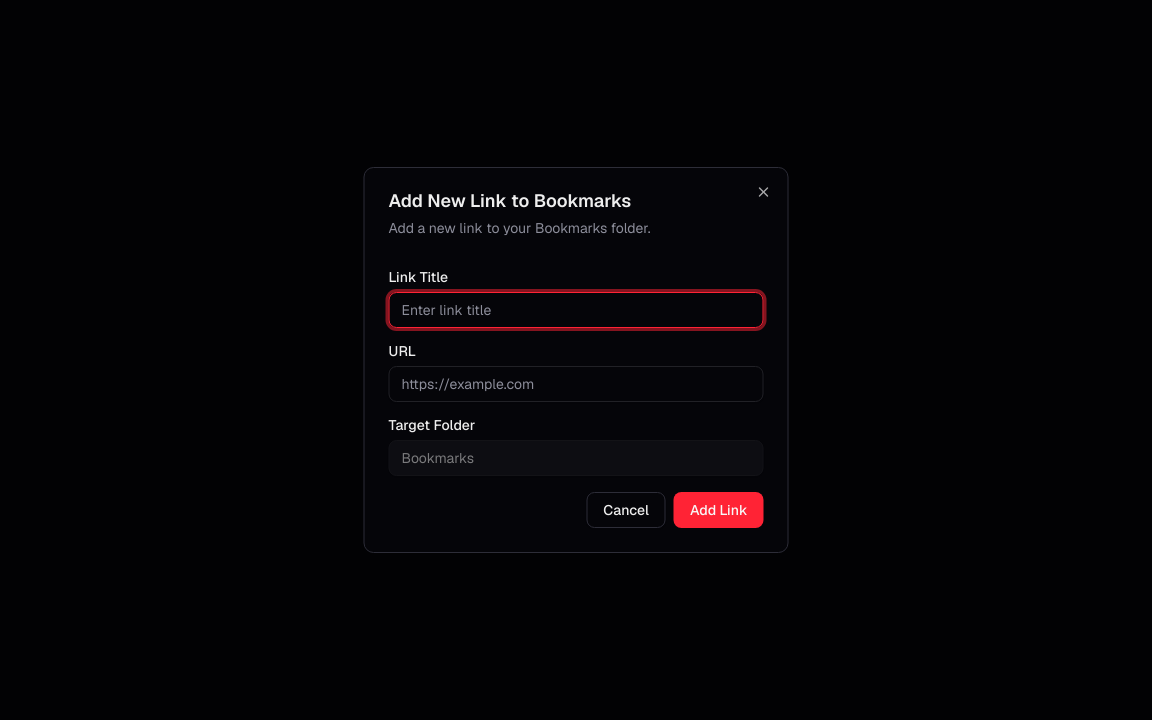
CreateLinkDialog › should show validation error for empty URL
In the field with test id "link-title-input": (576, 310) [388,292,764,328], type "Example"
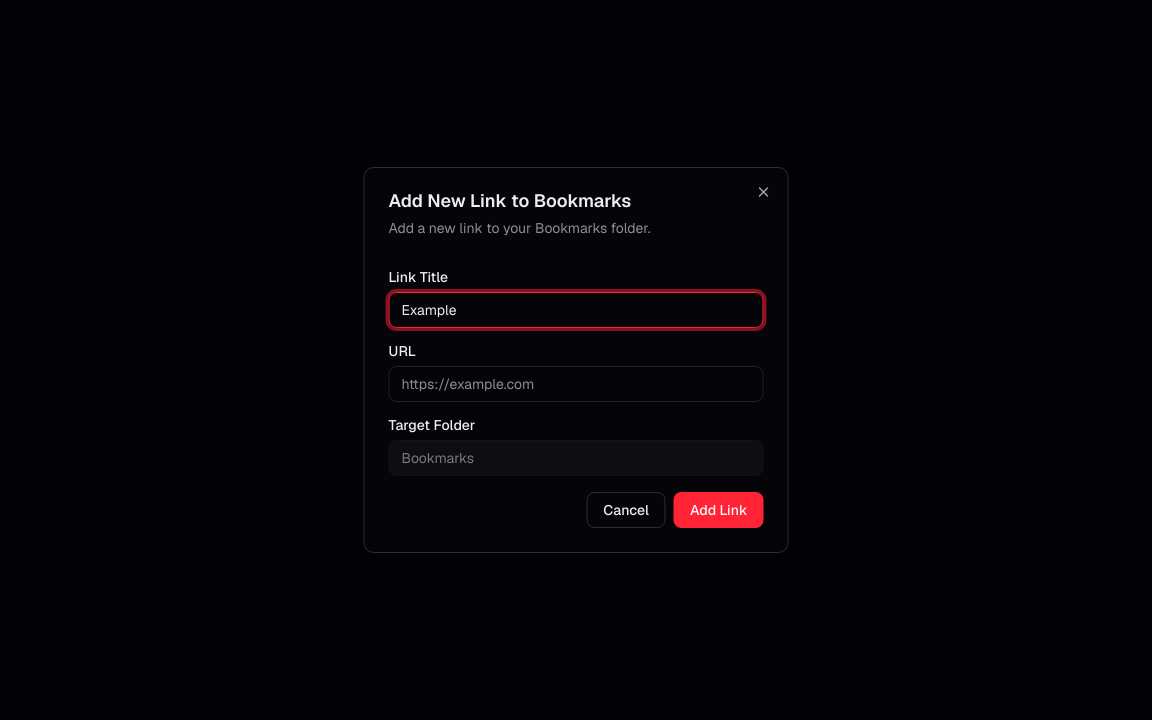
# Leave URL empty to trigger validation error
Click the button with test id "create-button": (719, 510) [674,492,764,528]
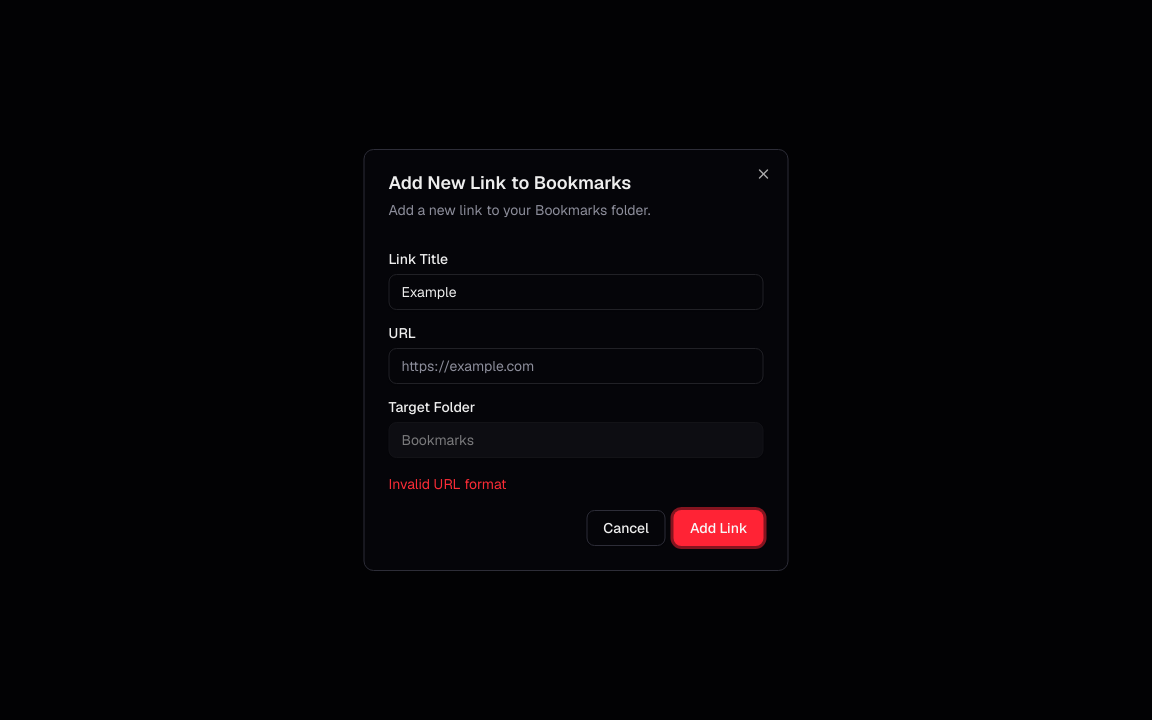
Now the text "Invalid URL format" is shown, box [388,475,506,493]
